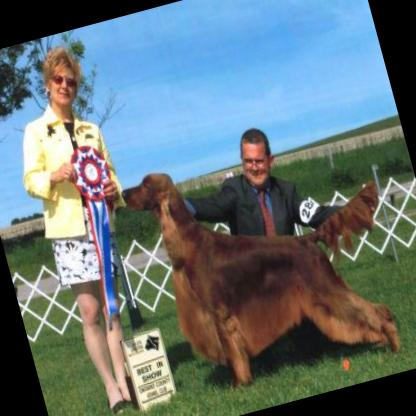Irish_setter: (117, 117, 416, 410)
